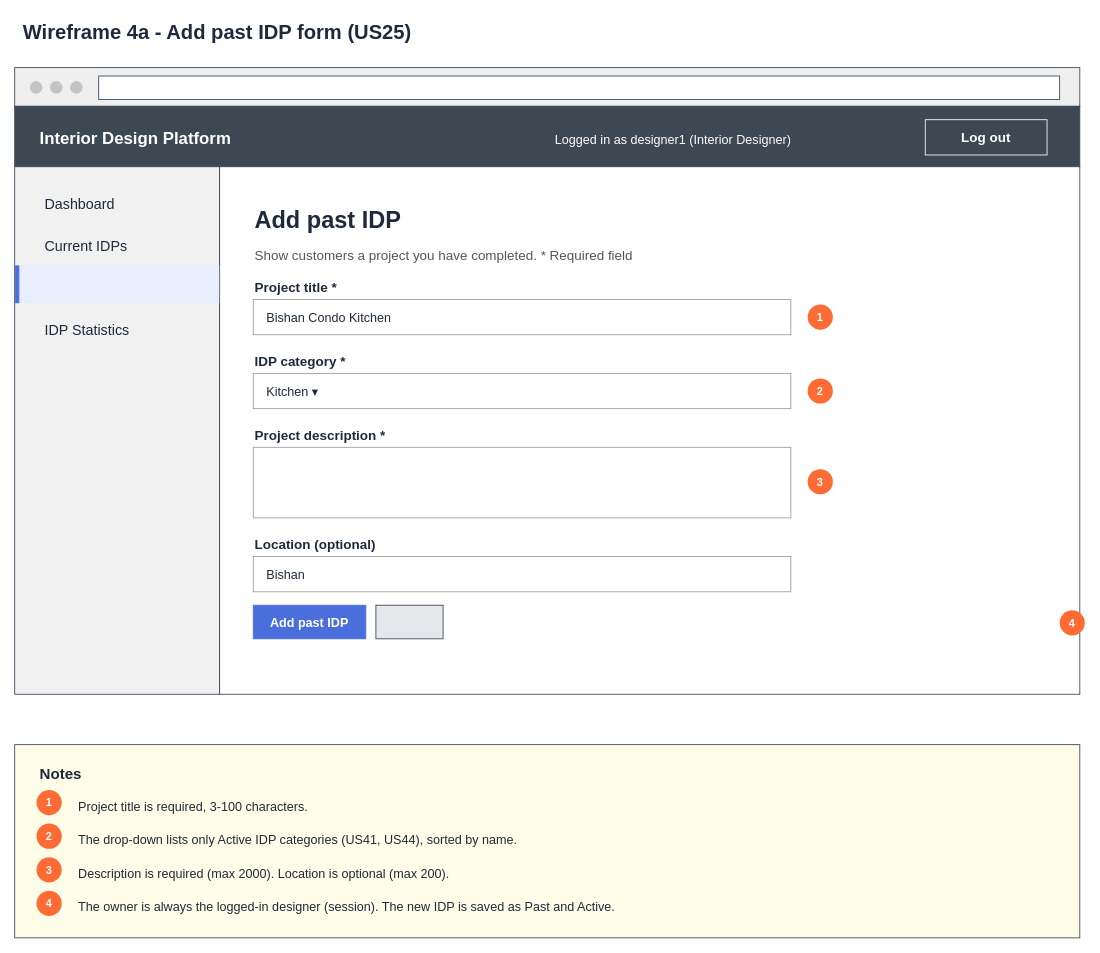
This 1100x953 diagram has some shape labels left out. Here are the shapes that lost their labels. From the top down, the box of each, then its label:
(98, 75, 1060, 100): localhost:5000/designer/past-idps/add
(15, 265, 219, 303): Past IDPs
(252, 446, 791, 518): Full kitchen remodel with quartz island, completed Oct 2026.
(375, 604, 443, 639): Cancel
